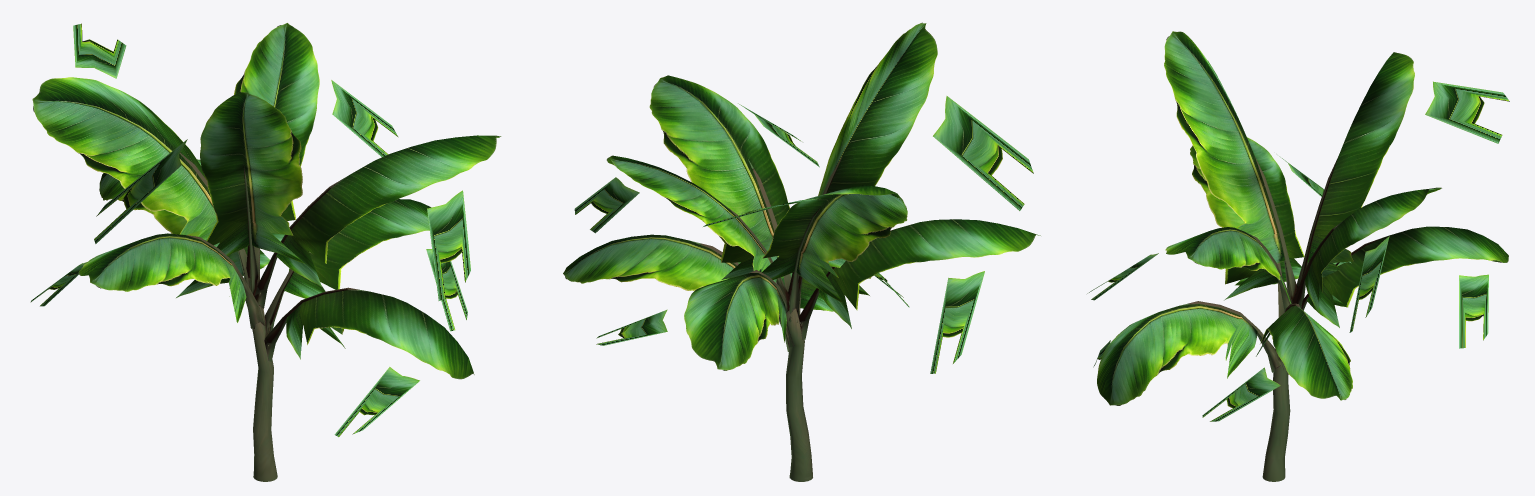
The model's file is banana-b.glb.
3 renders of one model, left to right at view 1: azimuth 30°, elevation 25°; view 2: azimuth 150°, elevation 25°; view 3: azimuth 270°, elevation 25°, orthographic. The views are drawn at different scales.
Parts seen in each view (by area): view 1: banana-b; view 2: banana-b; view 3: banana-b.
Boxes of the visible parts, x1,y1,x2,y2 form: banana-b: (30,23,501,481); banana-b: (563,22,1040,481); banana-b: (1087,31,1509,481).
Size of the model in its own units: 2.92 by 2.77 by 2.61.
Materials: 2 (2 with a texture image).
